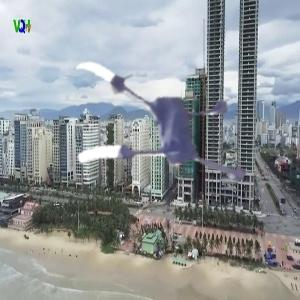drone: (53, 33, 258, 238)
